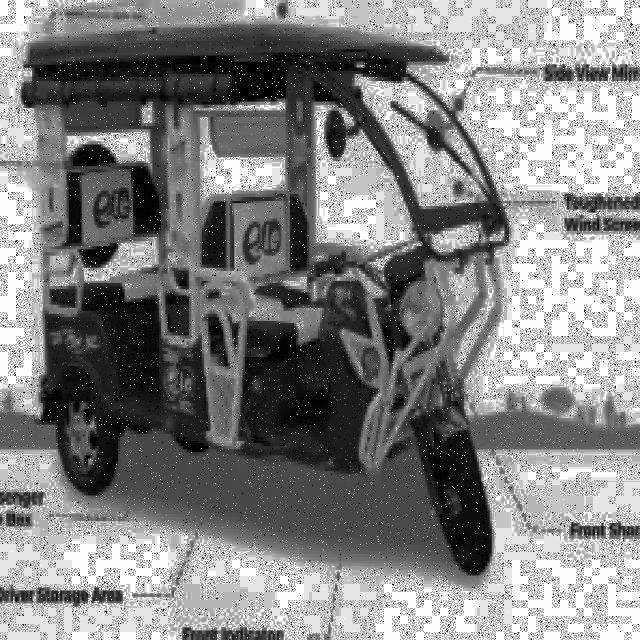Toto: (18, 16, 519, 576)
